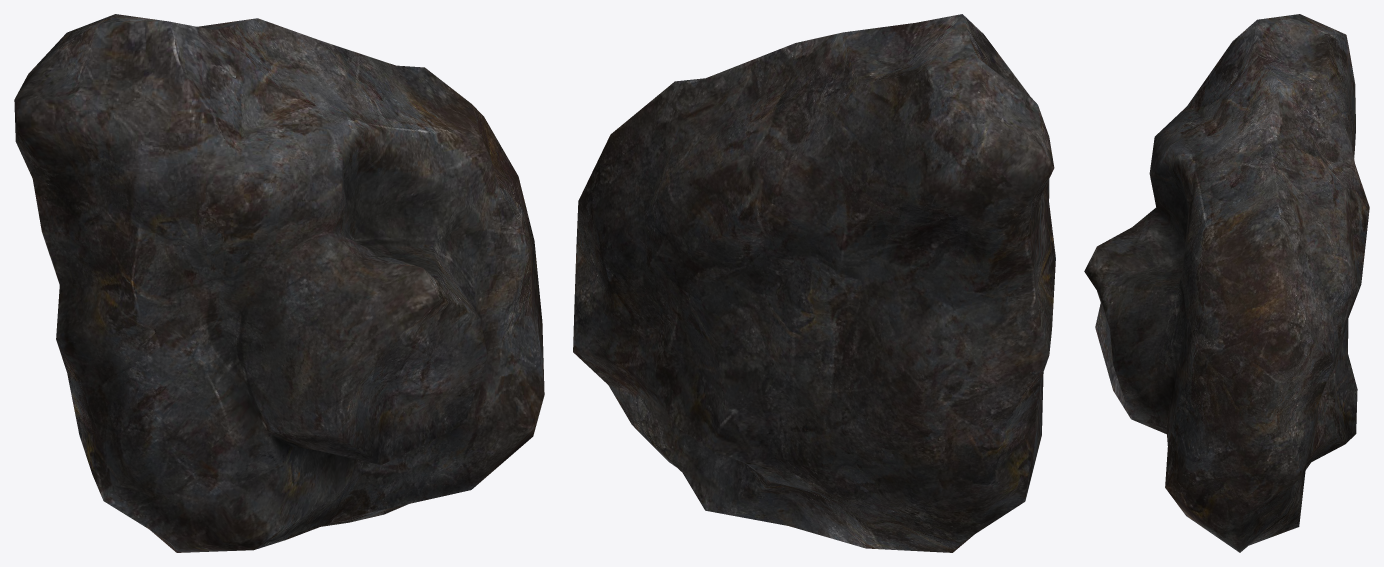
File: Rock_5.glb
3 renders of one model, left to right at view 1: azimuth 30°, elevation 25°; view 2: azimuth 150°, elevation 25°; view 3: azimuth 270°, elevation 25°, orthographic. The views are drawn at different scales.
Visible parts, largest first — view 1: rock_05; view 2: rock_05; view 3: rock_05.
Part boxes in pixels (<box>): rock_05: <box>14,14,544,552</box>; rock_05: <box>573,14,1055,552</box>; rock_05: <box>1084,14,1369,552</box>.
Bounding box in the file's own units: 0.948 × 1 × 0.5972.
Materials: 1 (1 with a texture image).
